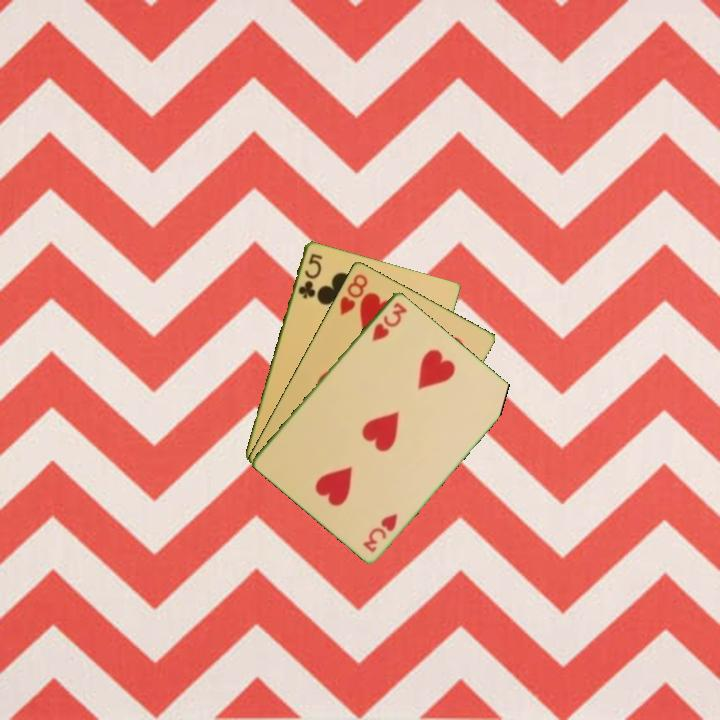3h: (368, 298, 410, 344), (359, 509, 401, 555)
5c: (294, 250, 325, 301)
8h: (336, 270, 371, 318)
